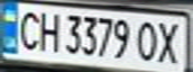3: (60, 11, 84, 55), (78, 12, 100, 56)
7: (93, 15, 115, 57)
9: (112, 16, 136, 60)
C: (12, 7, 42, 52)
H: (33, 8, 63, 53)
O: (133, 18, 163, 62)
X: (154, 18, 187, 65)
